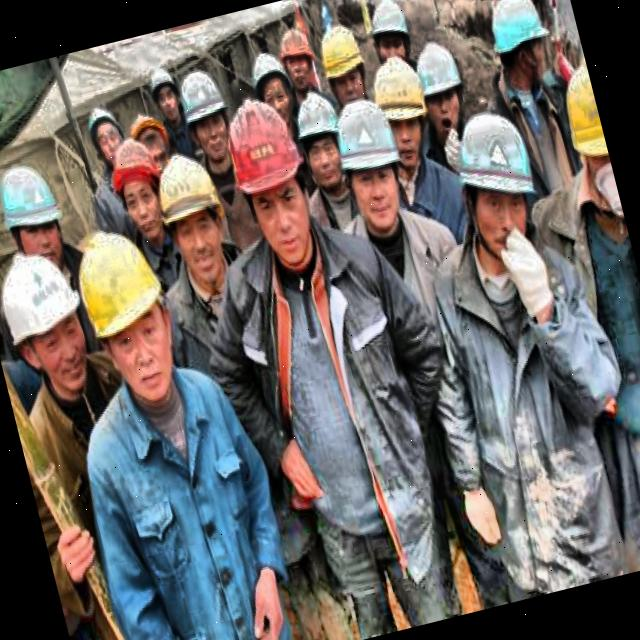helmet: (59, 224, 186, 406), (438, 95, 552, 264), (0, 230, 106, 409), (211, 100, 314, 270), (144, 146, 242, 294), (327, 92, 418, 234), (551, 59, 618, 204), (366, 47, 442, 172), (0, 151, 73, 279), (172, 58, 245, 178), (102, 133, 176, 250), (285, 78, 357, 198), (406, 31, 476, 145), (479, 0, 559, 96), (311, 18, 375, 112), (359, 0, 423, 79), (243, 44, 300, 128), (273, 18, 327, 102), (77, 98, 132, 171), (140, 57, 188, 138)
